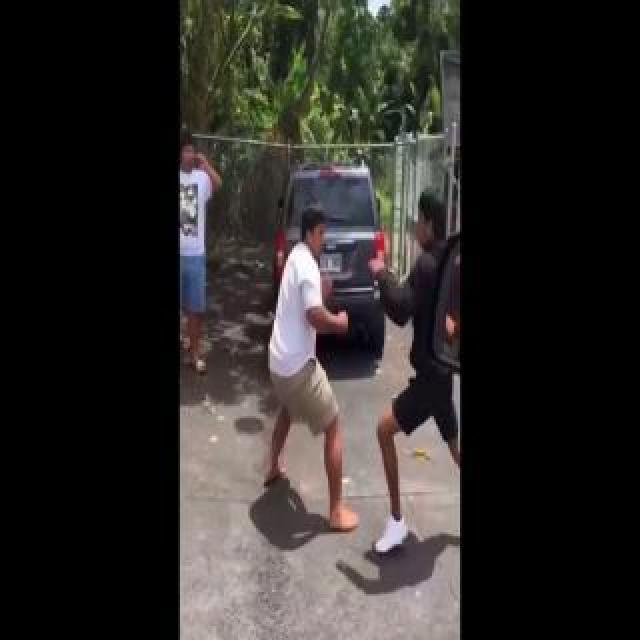fight: (260, 182, 470, 522)
